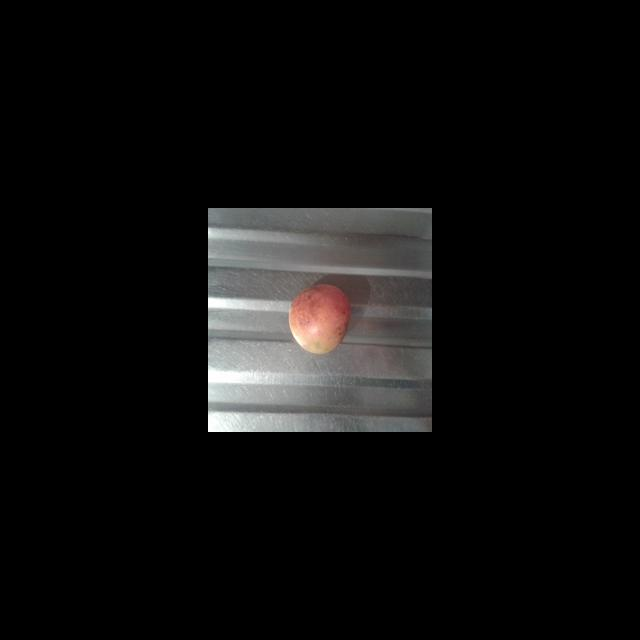Mango: (288, 283, 351, 354)
